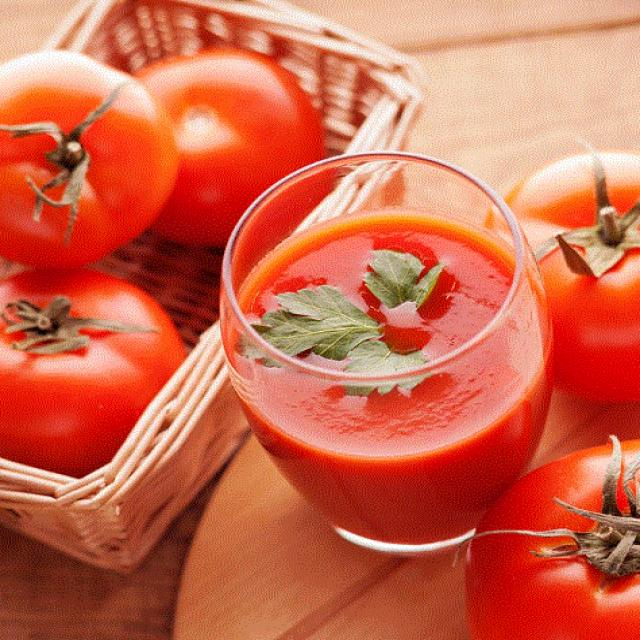Healthy: (120, 34, 336, 210), (0, 51, 156, 274), (0, 258, 169, 447), (521, 133, 640, 384), (468, 480, 640, 640)
